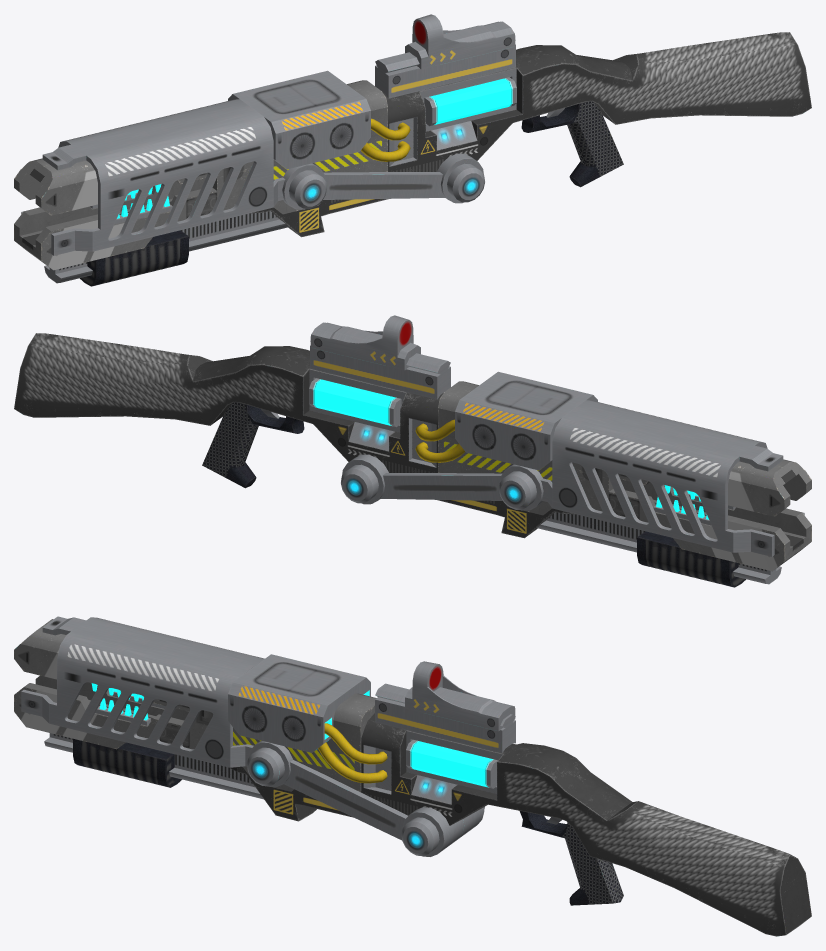
File: SF_SG_2_R2_PBR.fbx
3 views of the same model, one above another, from view 1: azimuth 30°, elevation 25°; view 2: azimuth 150°, elevation 25°; view 3: azimuth 330°, elevation 25° (orthographic).
Parts seen in each view (by area): view 1: SG_SF_2_PBR; view 2: SG_SF_2_PBR; view 3: SG_SF_2_PBR.
Part boxes in pixels (left/top/right/bottom): SG_SF_2_PBR: left=14, top=14, right=811, bottom=286; SG_SF_2_PBR: left=14, top=315, right=811, bottom=587; SG_SF_2_PBR: left=14, top=616, right=811, bottom=936.
Size of the model in its own units: 101 by 25.47 by 12.59.
